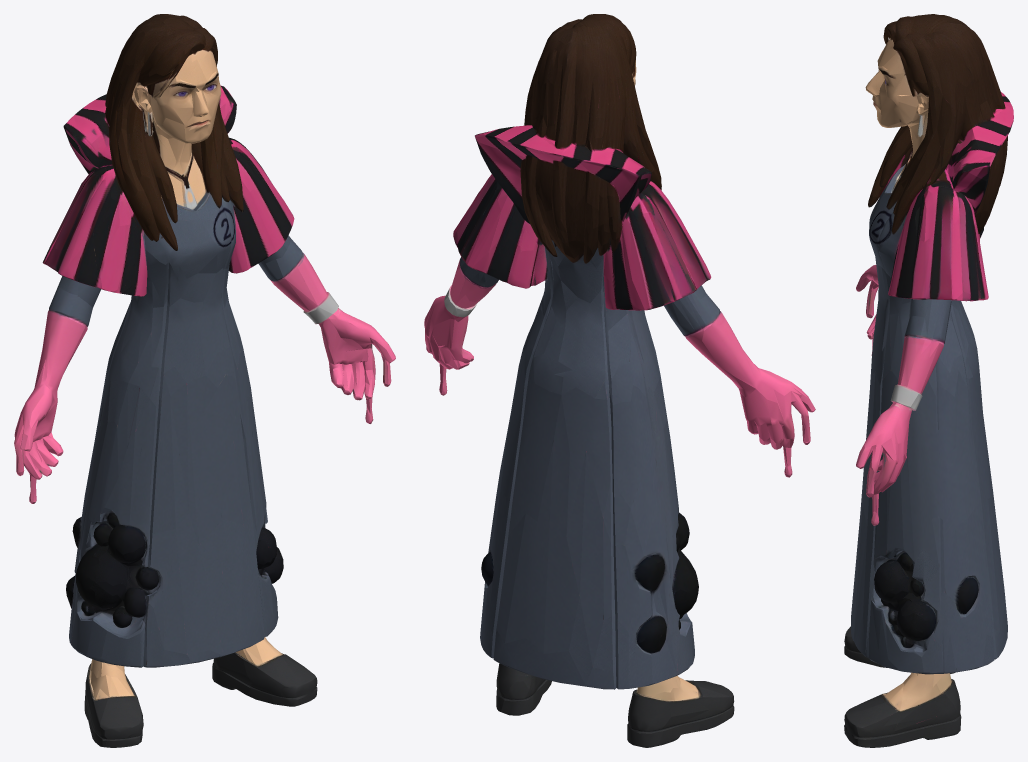
The picture shows the model from 3 angles, left to right: view 1: azimuth 30°, elevation 25°; view 2: azimuth 150°, elevation 25°; view 3: azimuth 270°, elevation 25°; orthographic projection. The views are drawn at different scales.
Size of the model in its own units: 1.1 by 1.9 by 0.4307.
1 material, 1 textured.
